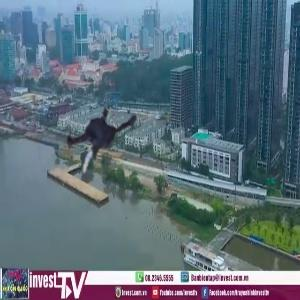drone: (48, 90, 149, 191)
